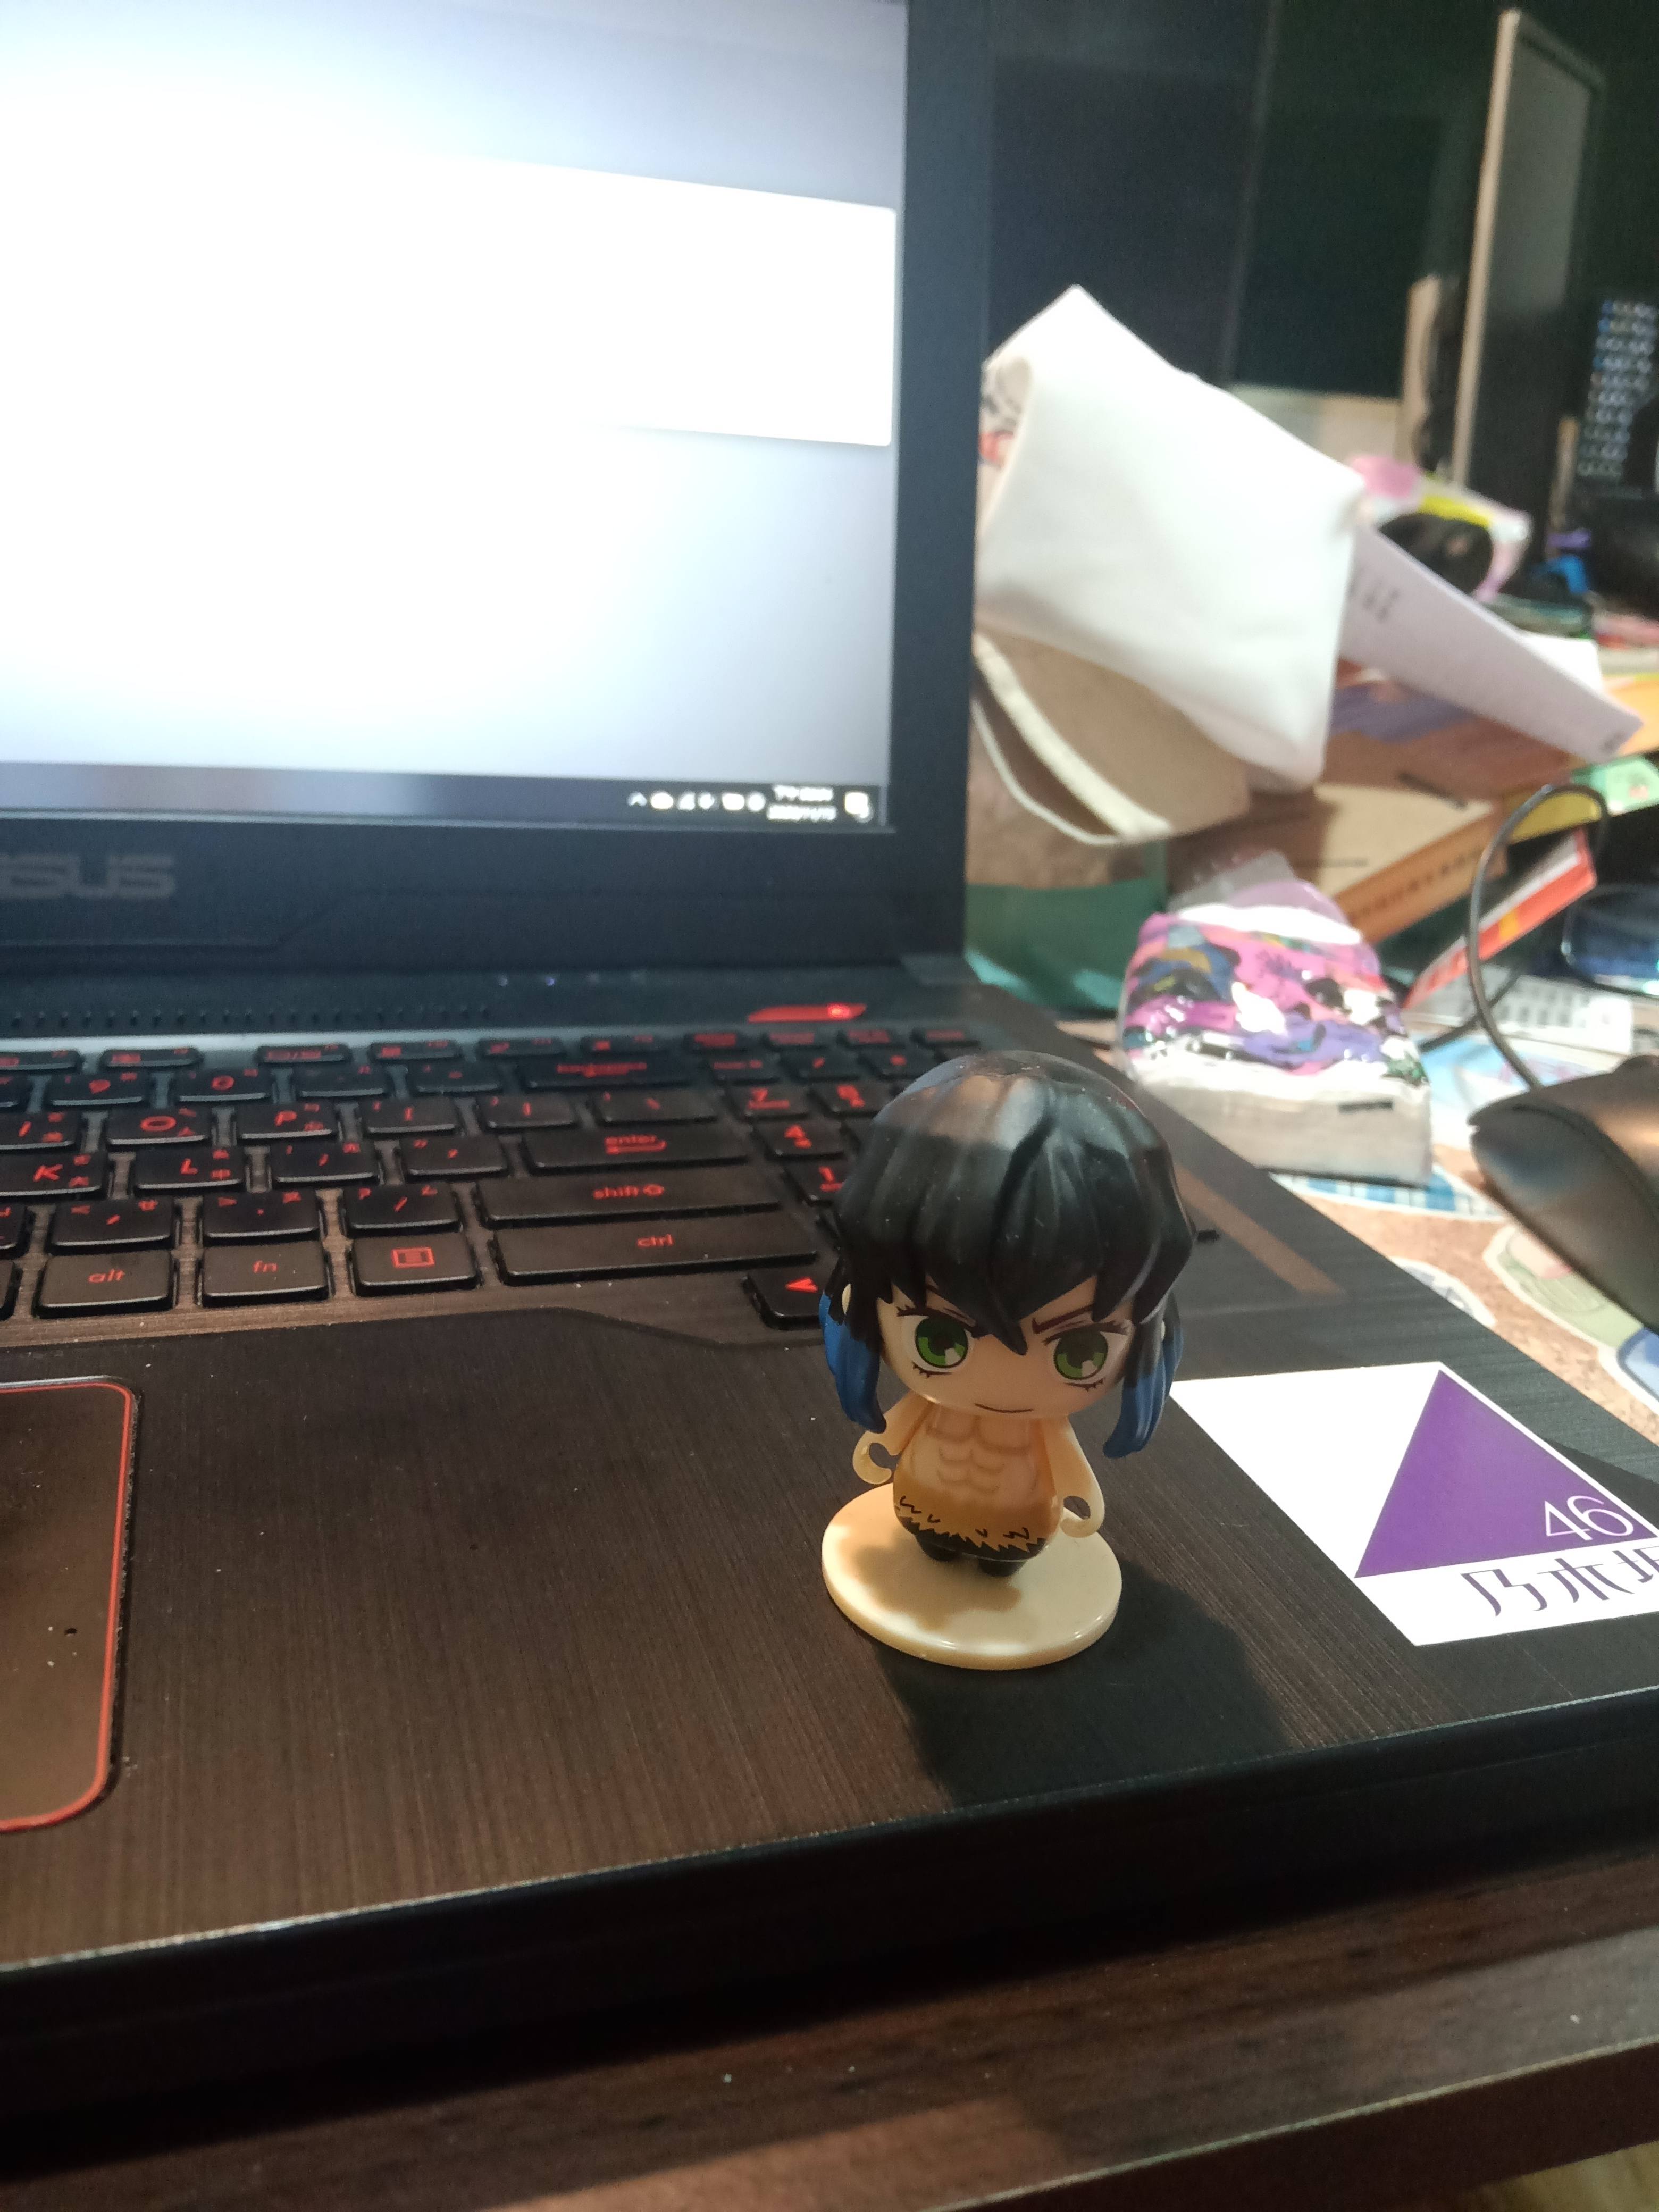Inosuke: (789, 1045, 1211, 1693)
